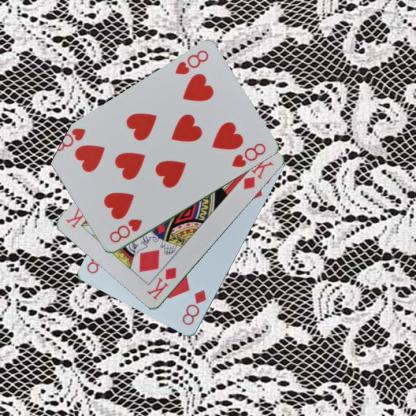8d: (179, 287, 208, 327)
8h: (106, 216, 144, 245), (172, 48, 210, 76)
Kd: (143, 264, 178, 302)
